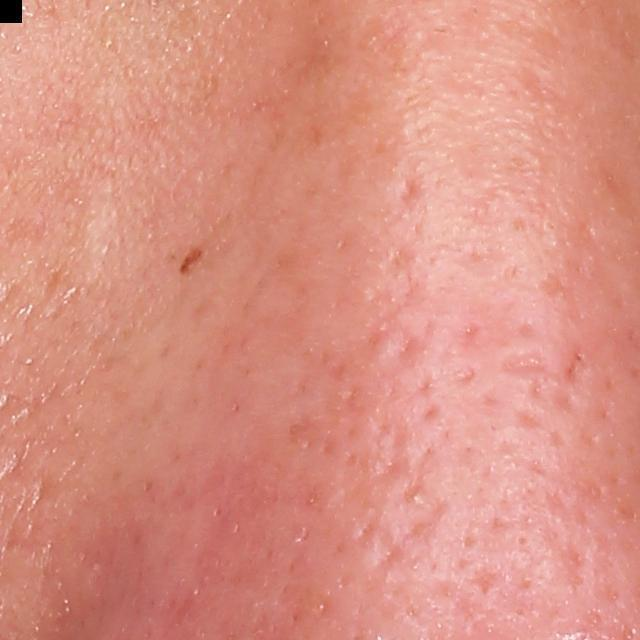atrophic_scar: (366, 305, 437, 370), (363, 403, 410, 484), (355, 508, 409, 574), (399, 440, 438, 505), (500, 348, 560, 379), (395, 165, 430, 204)
